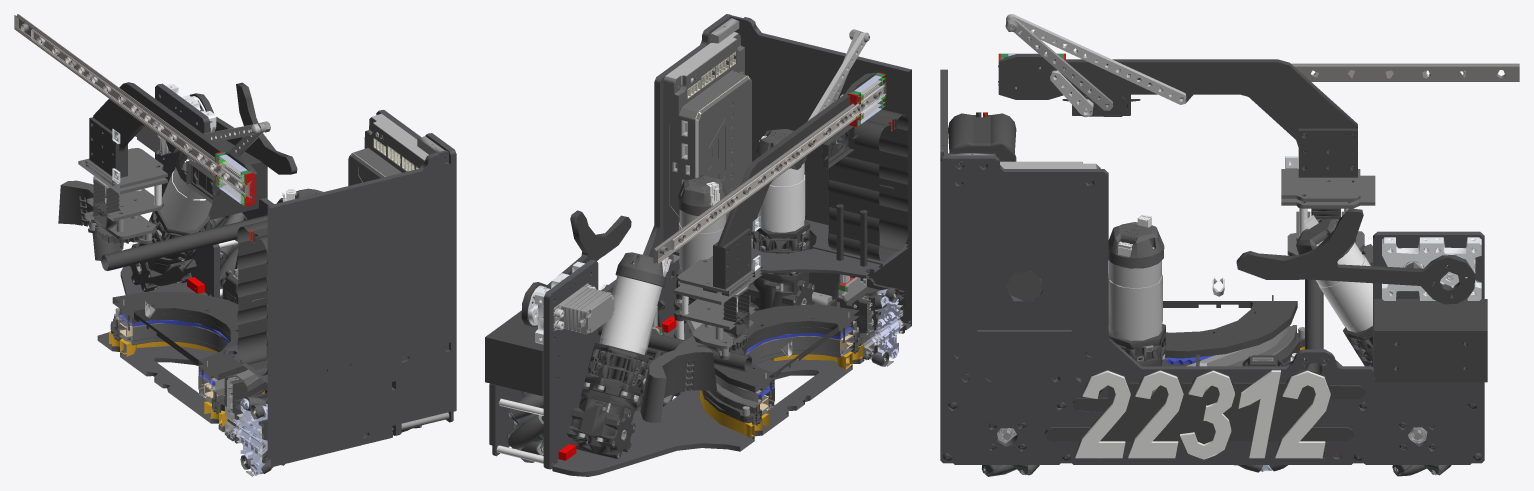
File: ftc-powerplay-section.glb
3 views of the same model, side by side, from view 1: azimuth 30°, elevation 25°; view 2: azimuth 150°, elevation 25°; view 3: azimuth 270°, elevation 25° (orthographic). The views are drawn at different scales.
Visible parts, largest first — view 1: Lift Mounting Levels - 4 Layers EGL:1; view 2: Lift Mounting Levels - 4 Layers EGL:1; view 3: Lift Mounting Levels - 4 Layers EGL:1.
Part boxes in pixels (x1=…): Lift Mounting Levels - 4 Layers EGL:1: x1=14, y1=14, x2=456, y2=476; Lift Mounting Levels - 4 Layers EGL:1: x1=485, y1=14, x2=911, y2=476; Lift Mounting Levels - 4 Layers EGL:1: x1=940, y1=14, x2=1519, y2=476.
Bounding box in the file's own units: 0.1668 × 0.2834 × 0.3891.
1 material, 1 textured.
